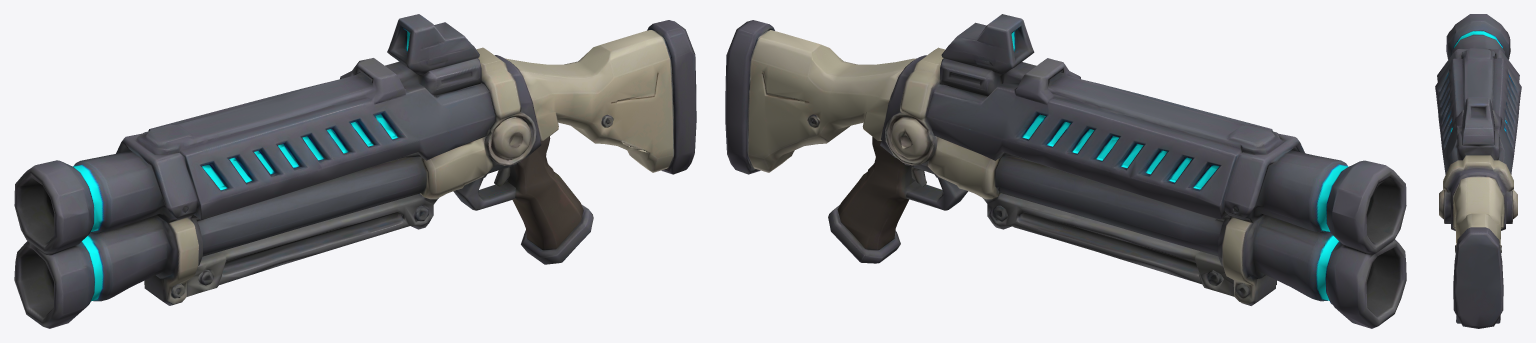
Rendered from thunderclap.fbx.
The picture shows the model from 3 angles, left to right: view 1: azimuth 30°, elevation 25°; view 2: azimuth 150°, elevation 25°; view 3: azimuth 270°, elevation 25°; orthographic projection. The views are drawn at different scales.
Parts seen in each view (by area): view 1: tripo_node_83e07761; view 2: tripo_node_83e07761; view 3: tripo_node_83e07761.
Boxes of the visible parts, x1,y1,x2,y2 form: tripo_node_83e07761: [14, 14, 696, 328]; tripo_node_83e07761: [725, 14, 1406, 328]; tripo_node_83e07761: [1435, 14, 1521, 328].
Bounding box in the file's own units: 0.9808 × 0.3851 × 0.166.
